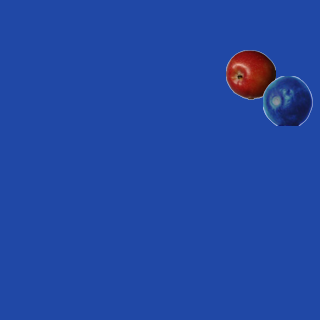Apple Braeburn: (225, 49, 275, 99)
Huckleberry: (262, 75, 312, 125)
